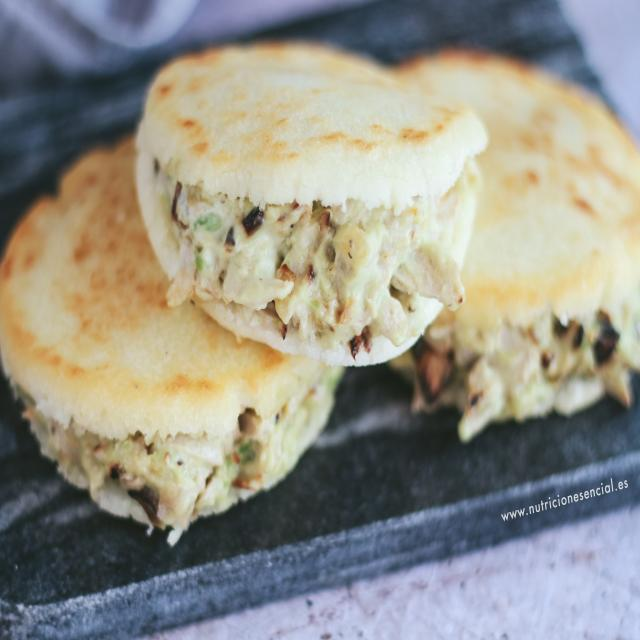arepa: (138, 28, 488, 367)
